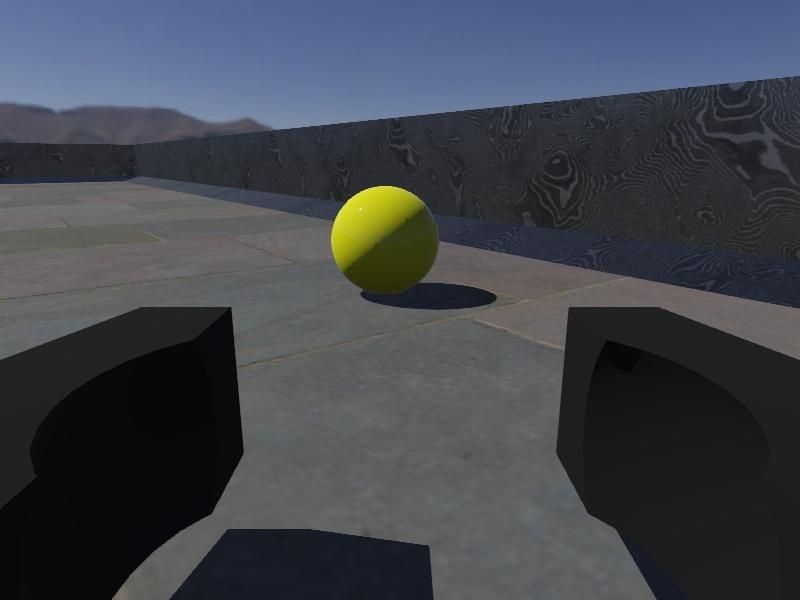yellow ball: (332, 185, 440, 296)
